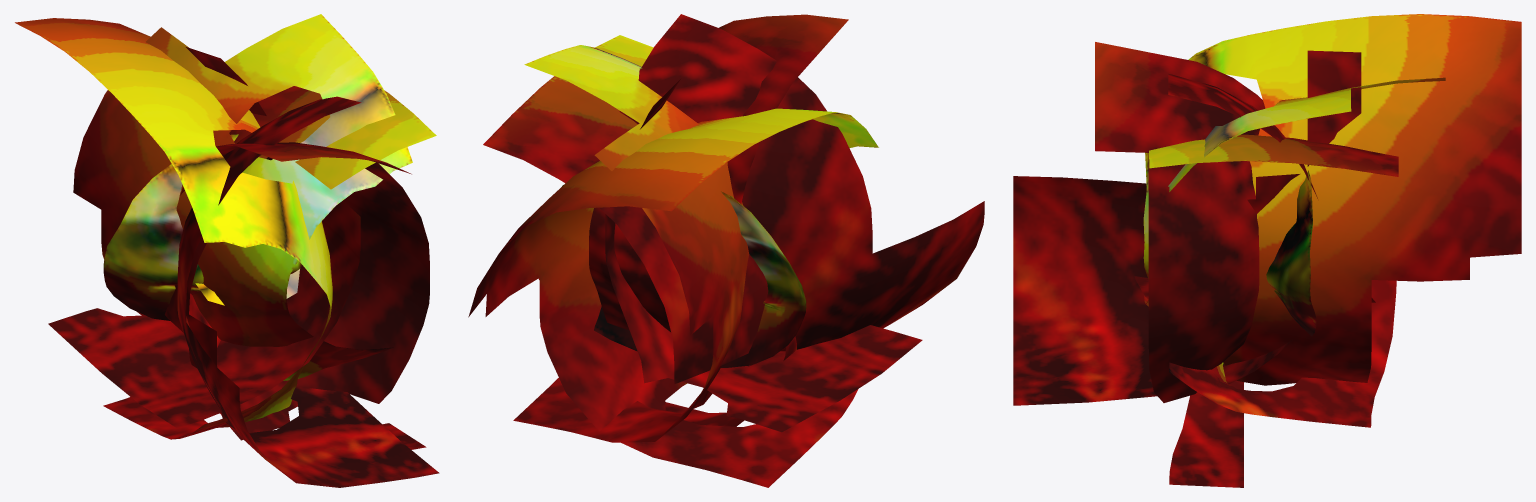
File: pigshatter4.gltf
The picture shows the model from 3 angles, left to right: view 1: azimuth 30°, elevation 25°; view 2: azimuth 150°, elevation 25°; view 3: azimuth 270°, elevation 25°; orthographic projection. The views are drawn at different scales.
Parts seen in each view (by area): view 1: pig.007, pig.002, pig.003, pig.004, pig.005, pig.008, pig.006; view 2: pig.005, pig.002, pig.007, pig.006, pig.003, pig.004, pig.008; view 3: pig.002, pig.004, pig.005, pig.007, pig.006, pig.003, pig.008.
Part boxes in pixels (x1,y1,x2,y2): pig.007: (73,14,412,380); pig.002: (15,18,332,439); pig.003: (48,47,360,427); pig.004: (180,142,429,440); pig.005: (177,96,439,487); pig.008: (103,134,238,320); pig.006: (165,86,436,449); pig.005: (589,14,984,351); pig.002: (468,108,878,487); pig.007: (513,45,749,442); pig.006: (483,35,796,426); pig.003: (605,78,922,432); pig.004: (719,14,848,366); pig.008: (538,185,806,367); pig.002: (1143,14,1521,385); pig.004: (1095,42,1265,402); pig.005: (1013,74,1317,405); pig.007: (1168,77,1445,427); pig.006: (1149,134,1398,487); pig.003: (1134,50,1375,302); pig.008: (1266,170,1316,336).
Bounding box in the file's own units: 2.56 × 3.4 × 4.22.
